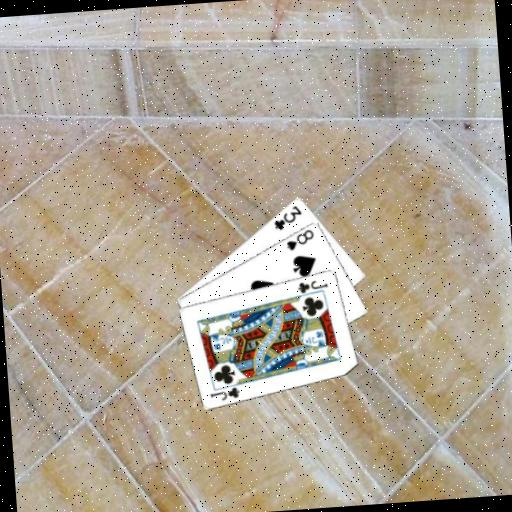3C: (270, 201, 305, 232)
8S: (283, 226, 317, 252)
JC: (295, 276, 330, 295), (207, 384, 242, 403)
